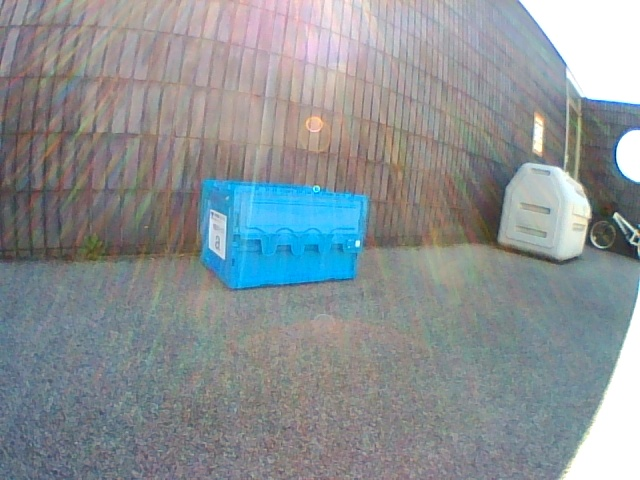blue_box: (199, 179, 367, 289)
tag_a: (213, 229, 221, 250)
